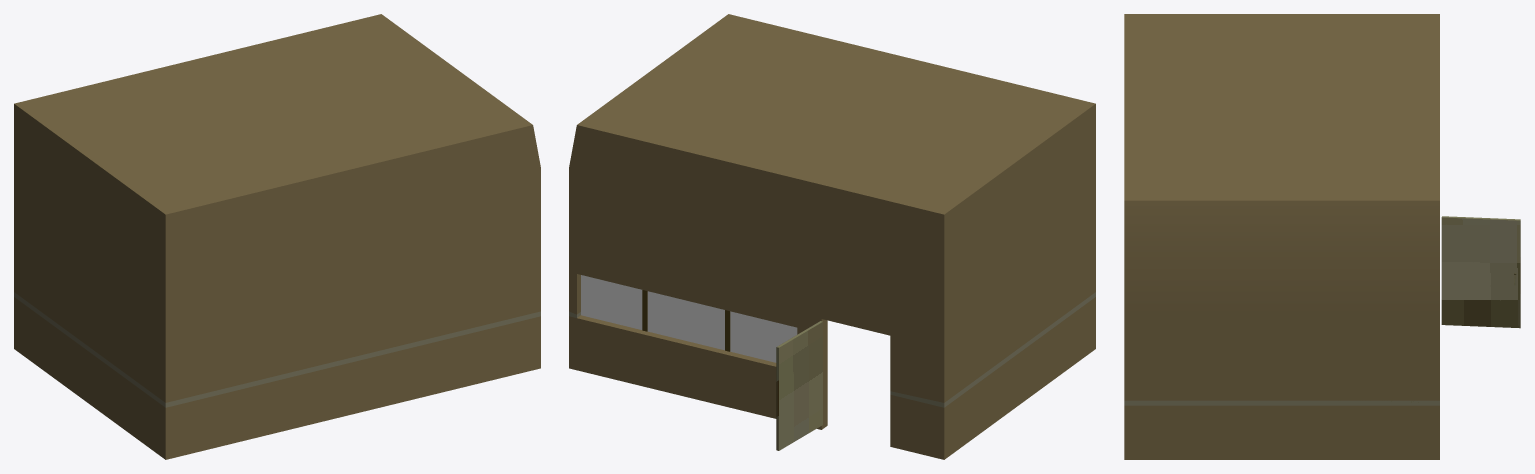
Rendered from Watcher.fbx.
The picture shows the model from 3 angles, left to right: view 1: azimuth 30°, elevation 25°; view 2: azimuth 150°, elevation 25°; view 3: azimuth 270°, elevation 25°; orthographic projection. The views are drawn at different scales.
Parts seen in each view (by area): view 1: WatchTower; view 2: WatchTower, Window, Door; view 3: WatchTower, Door.
Part boxes in pixels (<box>): WatchTower: <box>14,14,540,459</box>; WatchTower: <box>569,14,1095,459</box>; Window: <box>581,275,797,362</box>; Door: <box>776,321,822,450</box>; WatchTower: <box>1124,14,1439,459</box>; Door: <box>1441,216,1520,328</box>.
Size of the model in its own units: 1098 by 686 by 965.
